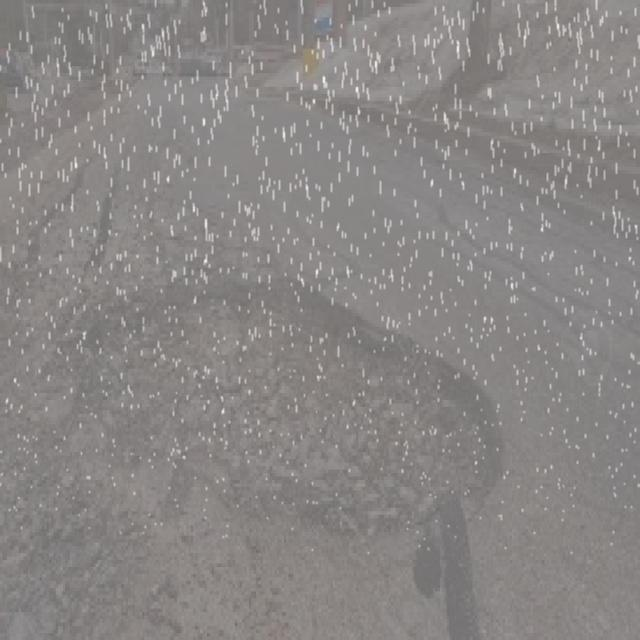Pothole: (71, 256, 527, 592)
